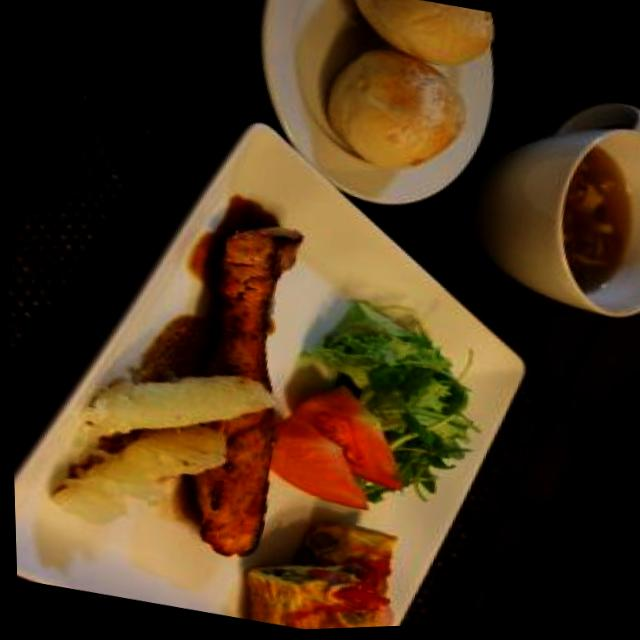熟制海鲜: (137, 189, 372, 593)
